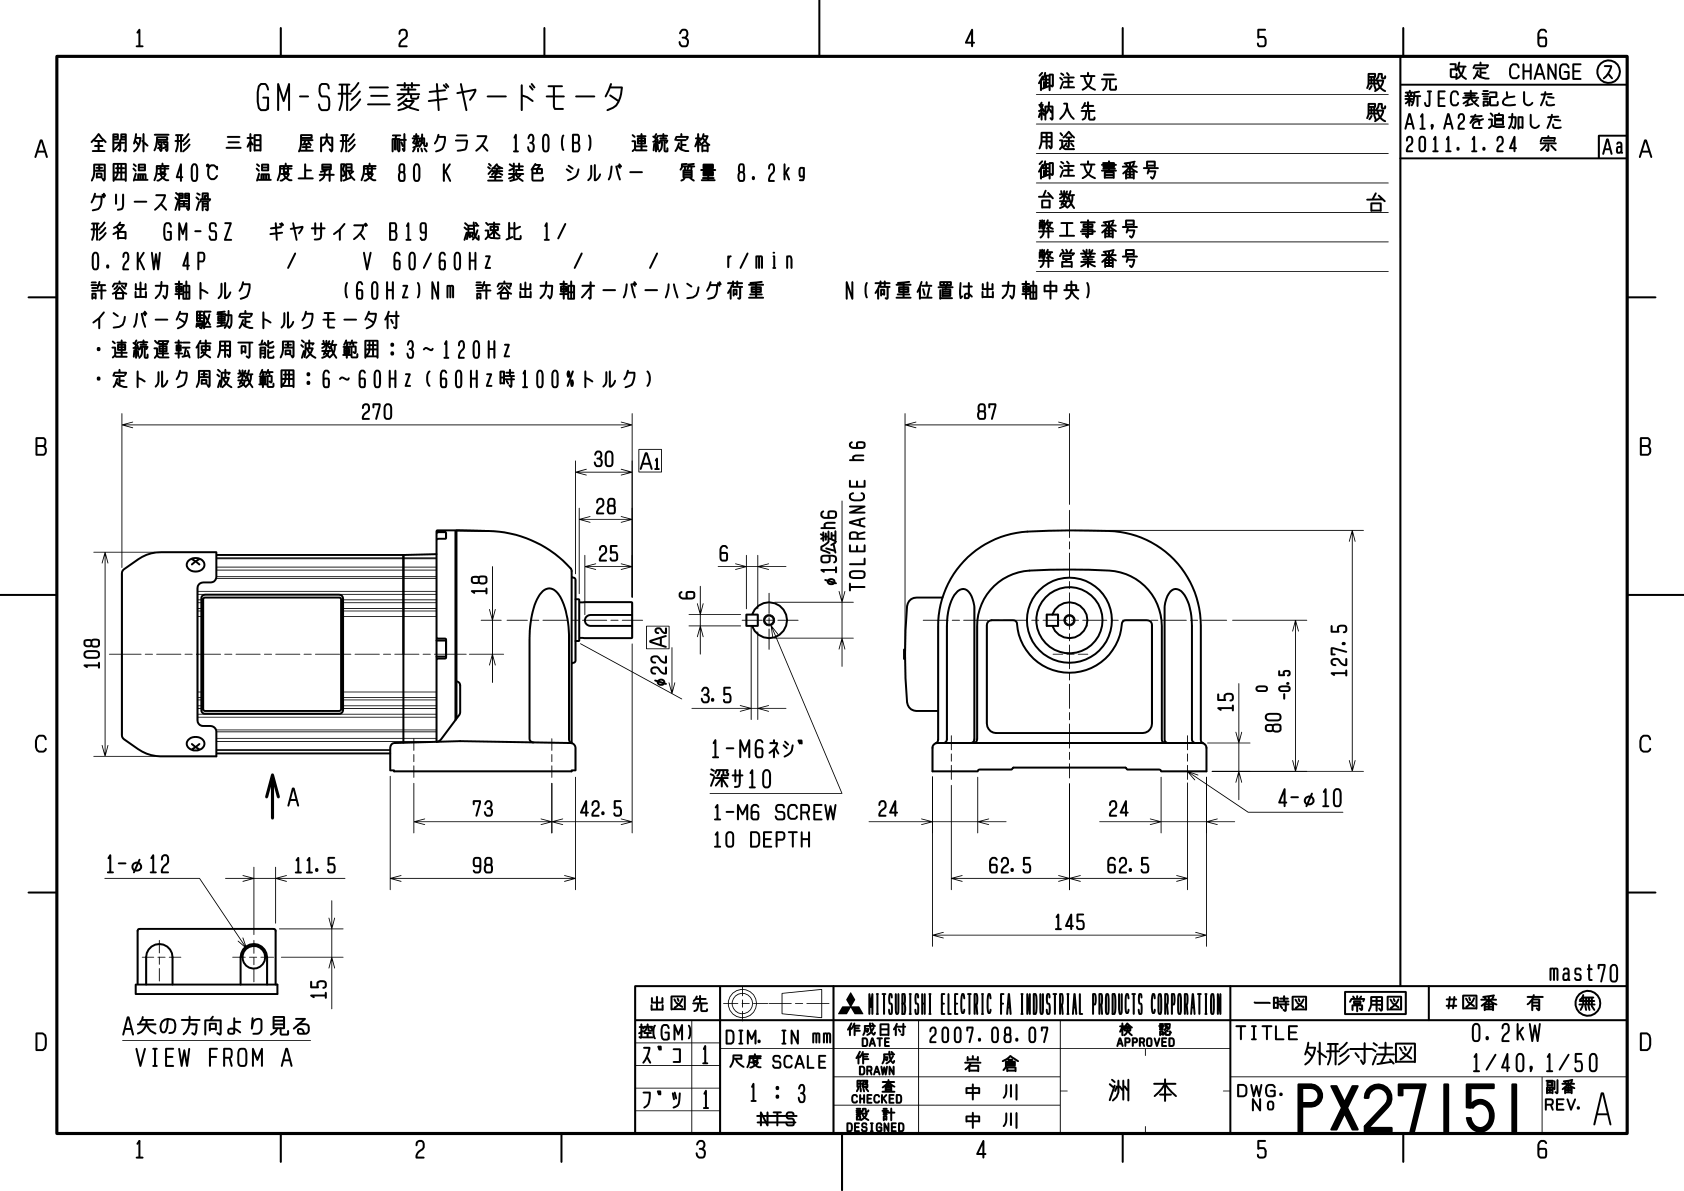GM_S_インバタ屋外＿三相_脚: (71, 392, 1377, 963)
